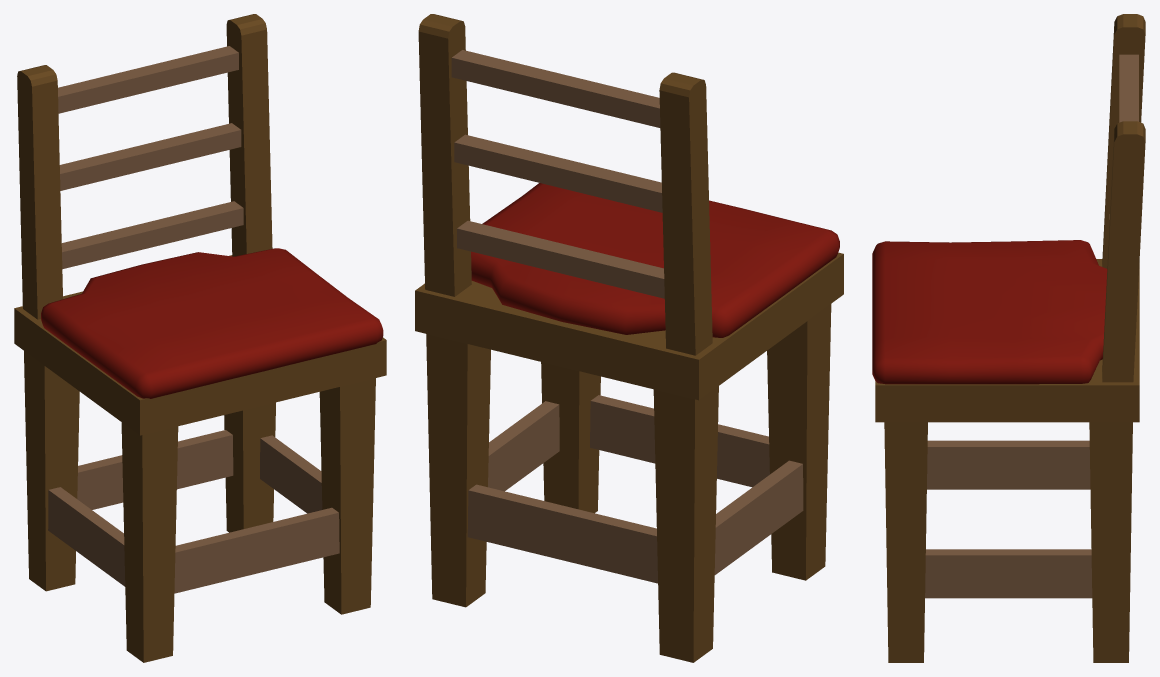
File: chair_11.glb
3 views of the same model, side by side, from view 1: azimuth 30°, elevation 25°; view 2: azimuth 150°, elevation 25°; view 3: azimuth 270°, elevation 25° (orthographic). The views are drawn at different scales.
Visible parts, largest first — view 1: Chair 2, Chair Ac; view 2: Chair 2, Chair Ac; view 3: Chair 2, Chair Ac.
Boxes of the visible parts, left/top/right/bottom form: Chair 2: left=14, top=14, right=386, bottom=662; Chair Ac: left=41, top=248, right=383, bottom=398; Chair 2: left=415, top=14, right=843, bottom=662; Chair Ac: left=471, top=183, right=839, bottom=337; Chair 2: left=875, top=14, right=1145, bottom=662; Chair Ac: left=872, top=240, right=1107, bottom=384.
Size of the model in its own units: 0.5773 by 1.13 by 0.5273.
2 materials, 2 textured.
